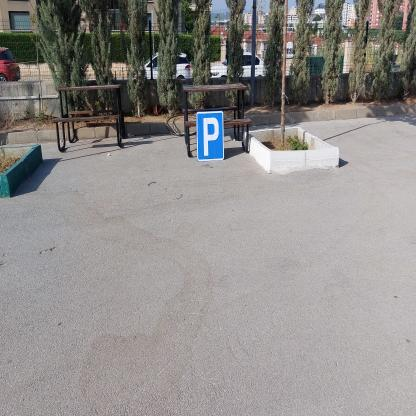Parking-Sign: (197, 111, 225, 163)
